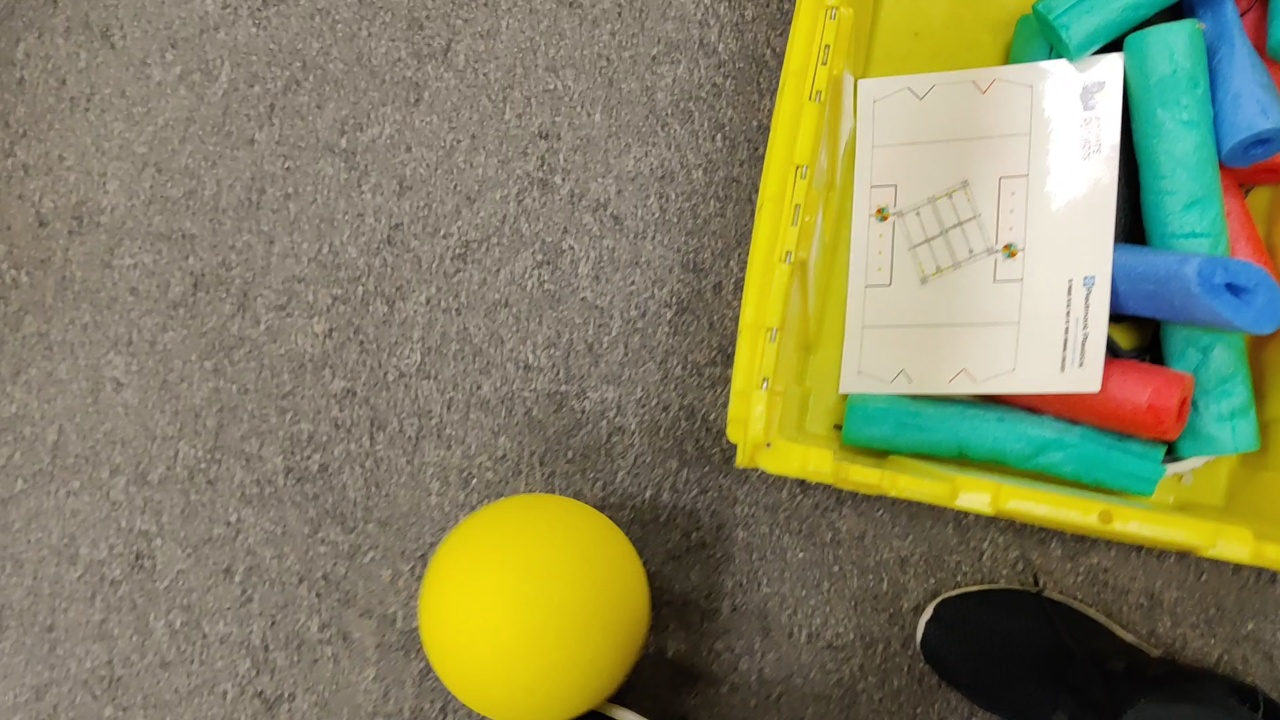Ball: (418, 491, 647, 720)
